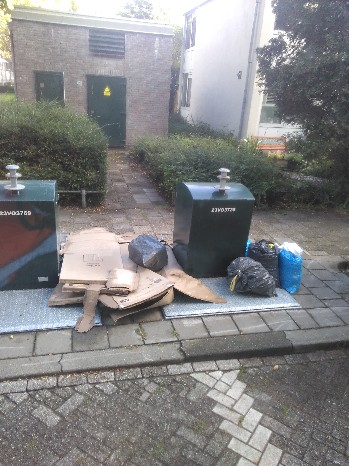Container: (2, 176, 57, 278), (177, 170, 237, 258)
Papier: (72, 232, 137, 315), (135, 272, 220, 300)
Rest: (256, 237, 288, 288), (239, 262, 274, 304), (141, 222, 166, 269), (290, 242, 314, 289)
